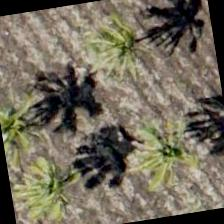Kelapa_Sawit: (106, 86, 209, 190), (68, 0, 172, 102)
